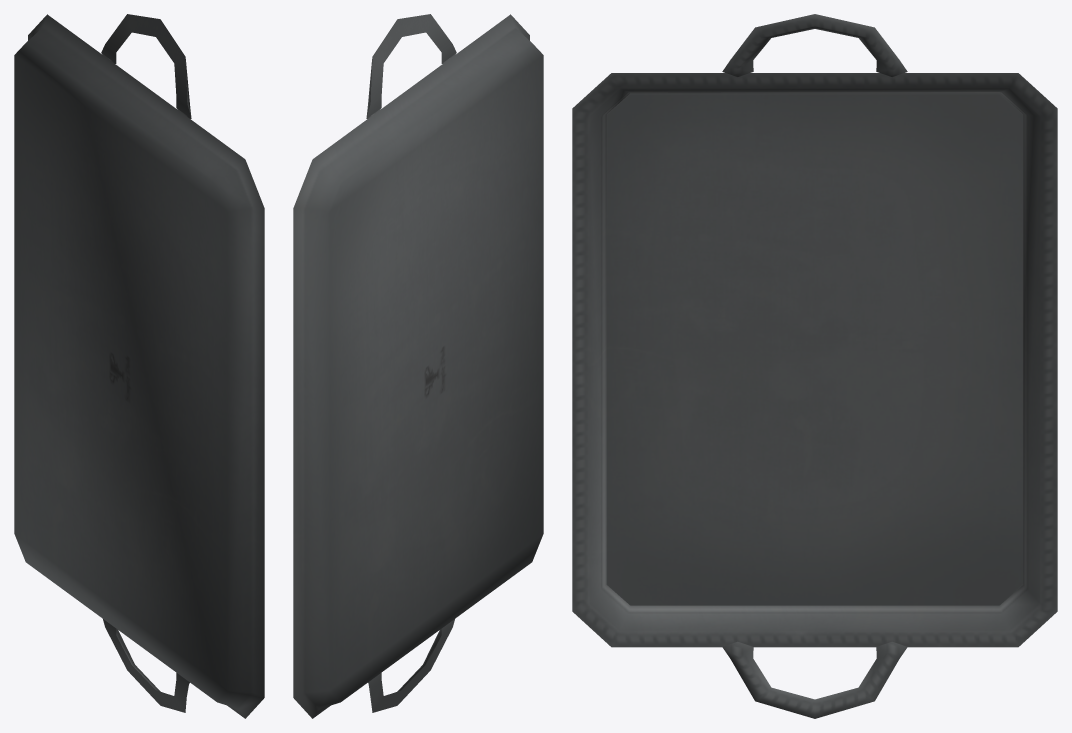
File: SilverTraySq.fbx
3 renders of one model, left to right at view 1: azimuth 30°, elevation 25°; view 2: azimuth 150°, elevation 25°; view 3: azimuth 270°, elevation 25°, orthographic. The views are drawn at different scales.
Visible parts, largest first — view 1: Empty_Mesh.001; view 2: Empty_Mesh.001; view 3: Empty_Mesh.001.
Boxes of the visible parts, x1=… form: Empty_Mesh.001: x1=14, y1=14, x2=264, y2=718; Empty_Mesh.001: x1=293, y1=14, x2=543, y2=718; Empty_Mesh.001: x1=572, y1=14, x2=1057, y2=718.
Bounding box in the file's own units: 60.25 × 96.5 × 6.27.
1 material, 1 textured.
